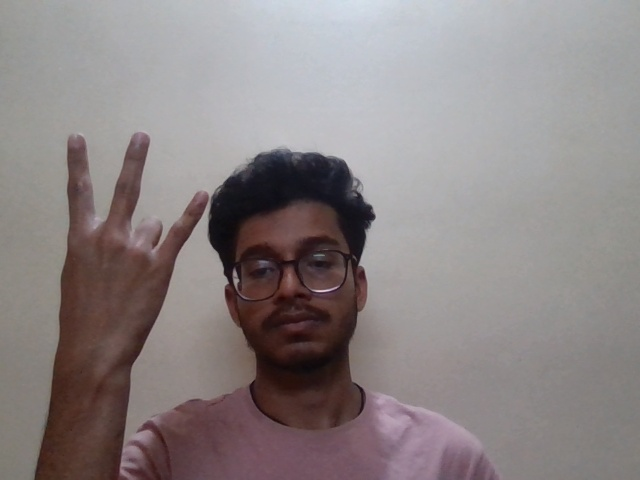why: (60, 127, 222, 368)
